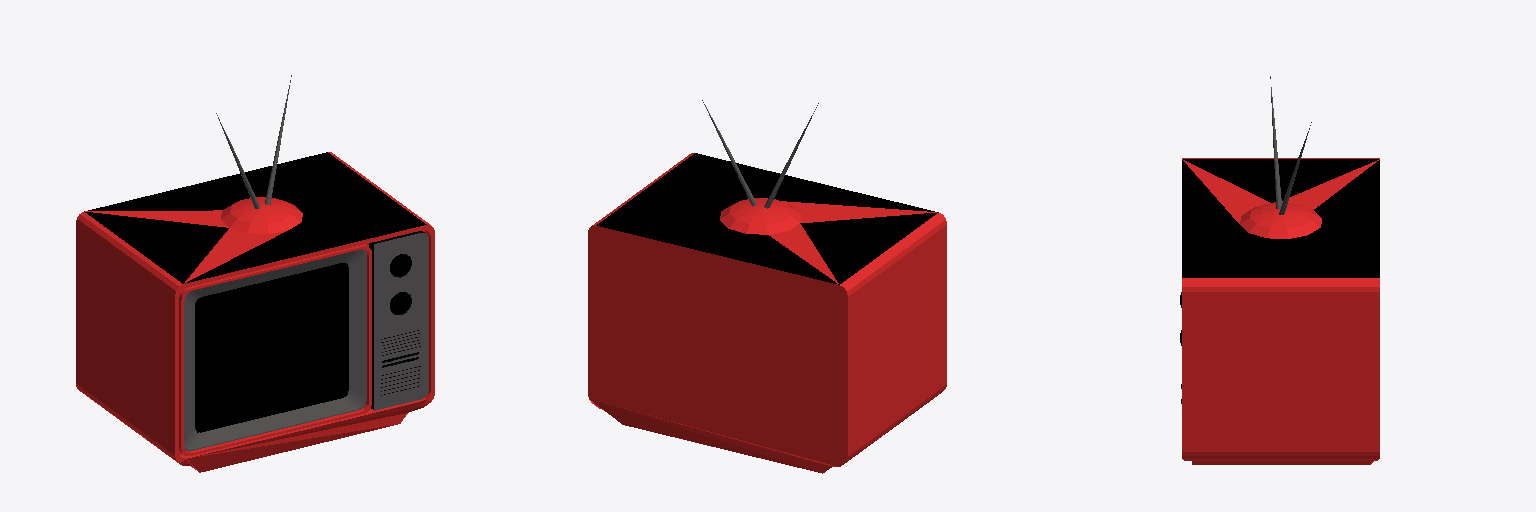
The picture shows the model from 3 angles: view 1: azimuth 30°, elevation 25°; view 2: azimuth 150°, elevation 25°; view 3: azimuth 270°, elevation 25°; orthographic projection.
Parts seen in each view (by area): view 1: polySurface2 tv:Mesh; view 2: polySurface2 tv:Mesh; view 3: polySurface2 tv:Mesh.
Part boxes in pixels (x1,y1,x2,y2): polySurface2 tv:Mesh: (76, 75, 434, 472); polySurface2 tv:Mesh: (588, 100, 946, 473); polySurface2 tv:Mesh: (1180, 76, 1379, 464).
Bounding box in the file's own units: 3.03 × 3.56 × 2.02.
8 materials, 2 textured.